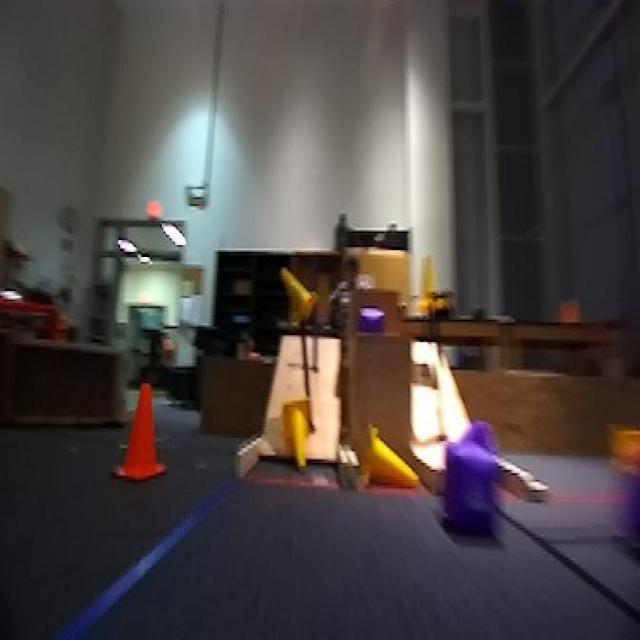frc_cone: (267, 254, 319, 337), (281, 392, 316, 476), (365, 432, 412, 488), (406, 248, 444, 316)
frc_cube: (444, 441, 501, 521), (455, 422, 505, 504), (358, 304, 389, 338)
